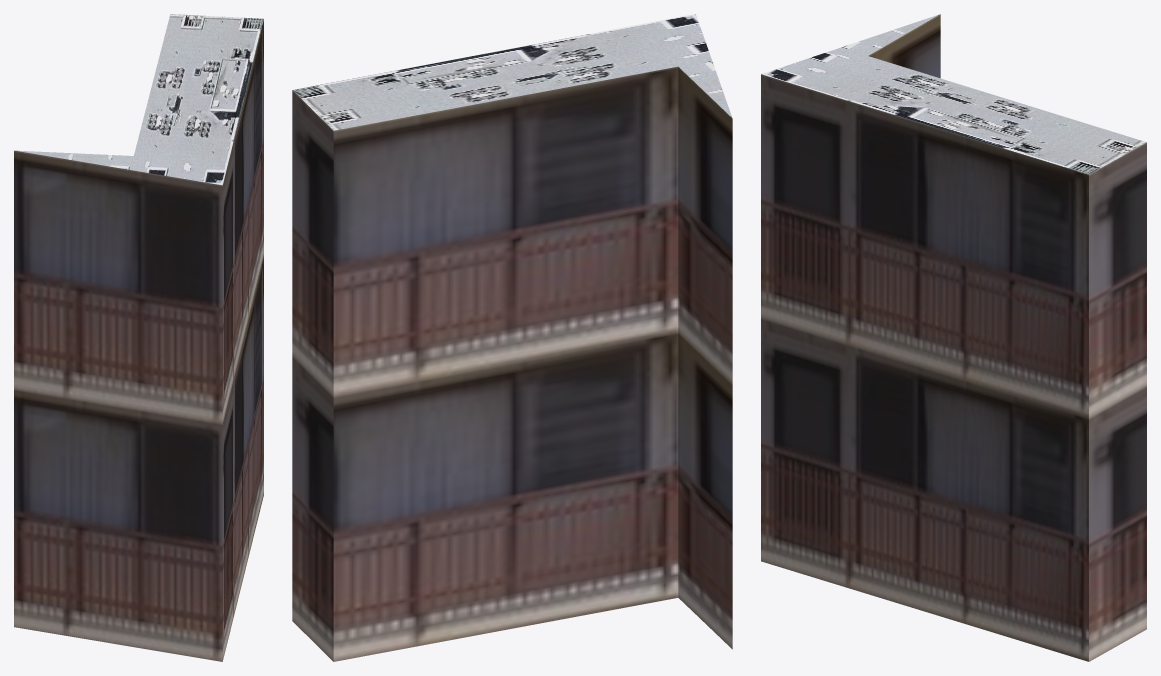
File: ResTex__3686.fbx
3 renders of one model, left to right at view 1: azimuth 30°, elevation 25°; view 2: azimuth 150°, elevation 25°; view 3: azimuth 270°, elevation 25°, orthographic. The views are drawn at different scales.
Parts seen in each view (by area): view 1: CityEngineMaterial_6_m, CityEngineMaterial_2_m; view 2: CityEngineMaterial_6_m, CityEngineMaterial_2_m; view 3: CityEngineMaterial_6_m, CityEngineMaterial_2_m.
Boxes of the visible parts, box(x1,y1,x2,y2) form: CityEngineMaterial_6_m: box(14, 19, 263, 661); CityEngineMaterial_2_m: box(16, 14, 263, 185); CityEngineMaterial_6_m: box(292, 66, 732, 661); CityEngineMaterial_2_m: box(293, 14, 732, 130); CityEngineMaterial_6_m: box(761, 14, 1146, 661); CityEngineMaterial_2_m: box(761, 14, 1146, 174).
Size of the model in its own units: 4.25 by 6 by 4.31.
Materials: 2 (2 with a texture image).
